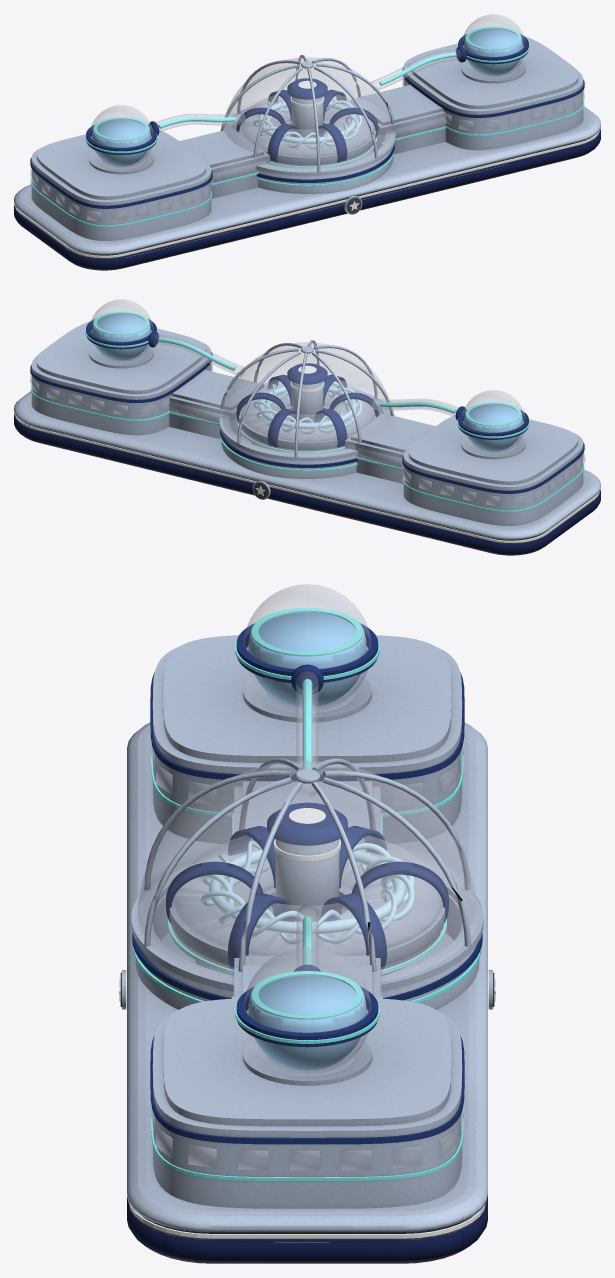
The model's file is SM_Evo_FusionStation.fbx.
3 renders of one model, top to bottom at view 1: azimuth 30°, elevation 25°; view 2: azimuth 150°, elevation 25°; view 3: azimuth 270°, elevation 25°, orthographic. The views are drawn at different scales.
Visible parts, largest first — view 1: SMN_Evo_FusionStation, Emblem_Fx_FusionStation, SpinOrbit_Plasma; view 2: SMN_Evo_FusionStation, Emblem_Fx_FusionStation, SpinOrbit_Plasma; view 3: SMN_Evo_FusionStation, Emblem_Fx_FusionStation, SpinOrbit_Plasma.
Boxes of the visible parts, x1,y1,x2,y2 form: SMN_Evo_FusionStation: [14, 34, 600, 270]; Emblem_Fx_FusionStation: [15, 14, 599, 257]; SpinOrbit_Plasma: [252, 97, 362, 149]; SMN_Evo_FusionStation: [14, 319, 600, 555]; Emblem_Fx_FusionStation: [15, 299, 599, 542]; SpinOrbit_Plasma: [252, 382, 362, 434]; SMN_Evo_FusionStation: [120, 623, 494, 1263]; Emblem_Fx_FusionStation: [119, 584, 495, 1238]; SpinOrbit_Plasma: [200, 840, 414, 944].
Size of the model in its own units: 2.84 by 0.628 by 0.877.
